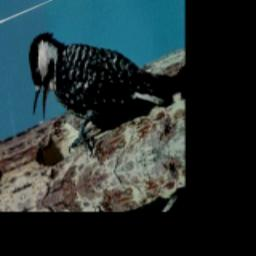Woodpecker: (20, 0, 181, 180)
